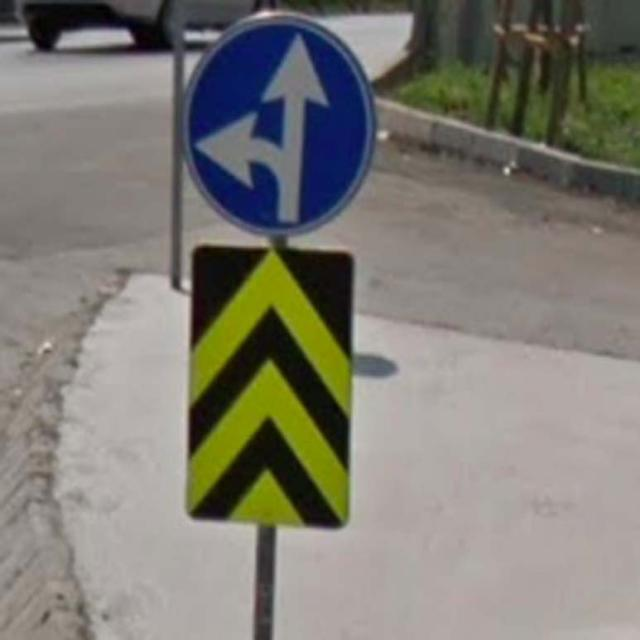ilerisol: (180, 13, 374, 231)
